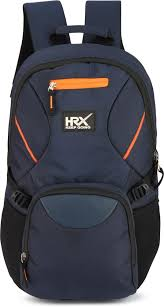backpack: (0, 0, 163, 300)
